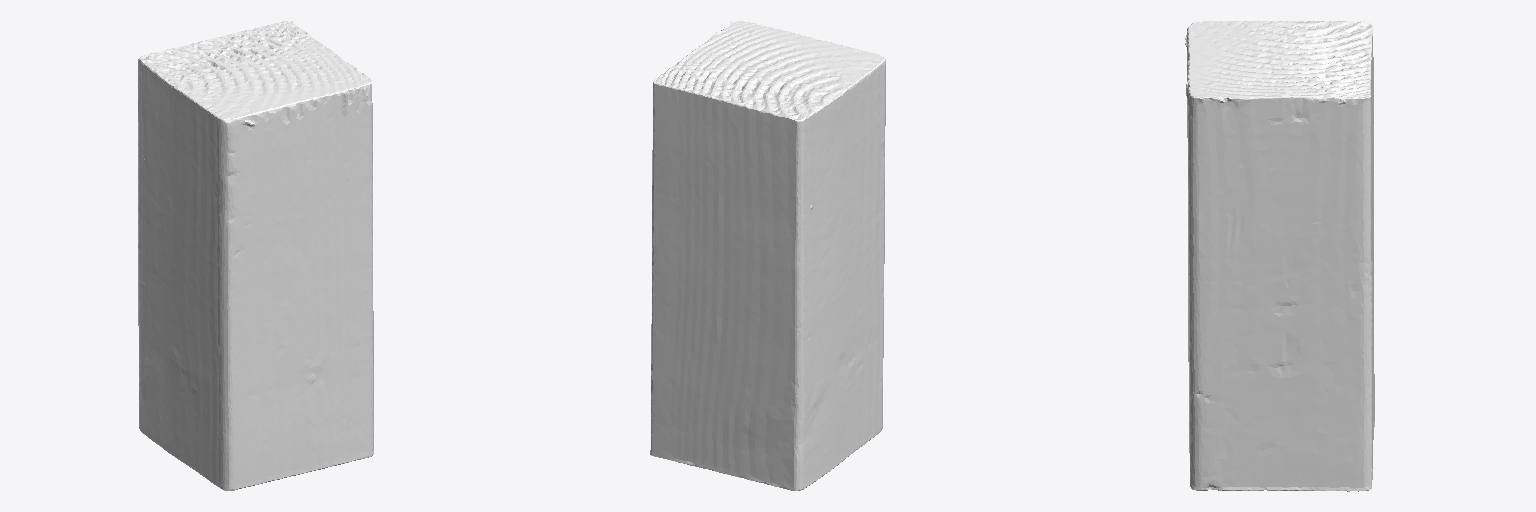
The robot description file, URDF, robot "a_toy_airplane":
<robot name="a_toy_airplane">
	<link name="base_link">
		<visual>
			<origin xyz="-0.03572475763431454 -0.030807398220545207 -0.09092314374993266" rpy="0.0 0.0 0.0" />
			<geometry>
				<mesh filename="072-a_toy_airplane/google_16k/textured.obj" scale="1 1 1" />
			</geometry>
			<material name="texture">
				<color rgba="1.0 1.0 1.0 1.0" />
			</material>
		</visual>
		<collision>
			<origin xyz="-0.03572475763431454 -0.030807398220545207 -0.09092314374993266" rpy="0.0 0.0 0.0" />
			<geometry>
				<mesh filename="072-a_toy_airplane/google_16k/textured_vhacd.obj" scale="1 1 1" />
			</geometry>
		</collision>
		<inertial>
			<mass value="0.114" />
			<inertia ixx="1e-3" ixy="0.0" ixz="0.0" iyy="1e-3" iyz="0.0" izz="1e-3" />
		</inertial>
	</link>
</robot>

--- Render facts (derived) ---
3 views of the same robot in one strip: view 1: azimuth 30°, elevation 25°; view 2: azimuth 150°, elevation 25°; view 3: azimuth 270°, elevation 25° (orthographic).
Robot: a_toy_airplane — 1 links, 0 joints (none); root link base_link; default pose: all joints at 0.
Links seen in each view (by area): view 1: base_link; view 2: base_link; view 3: base_link.
Boxes of the visible links, bbox=[...] form: base_link: bbox=[138, 21, 373, 490]; base_link: bbox=[650, 21, 885, 490]; base_link: bbox=[1185, 20, 1374, 491].
Bounding box of the posed robot: 0.0906 × 0.0899 × 0.206 m (x, y, z).
1 mesh visuals loaded from 1 distinct referenced files (1 OBJ).